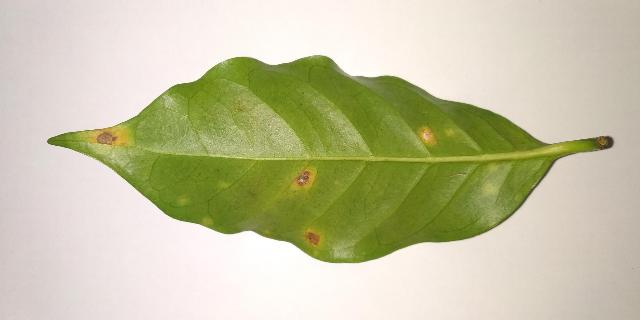miner: (82, 125, 131, 148), (290, 168, 315, 190), (303, 228, 322, 248), (418, 127, 436, 145), (482, 181, 499, 196), (177, 194, 190, 206), (444, 128, 458, 137), (202, 218, 212, 226)
